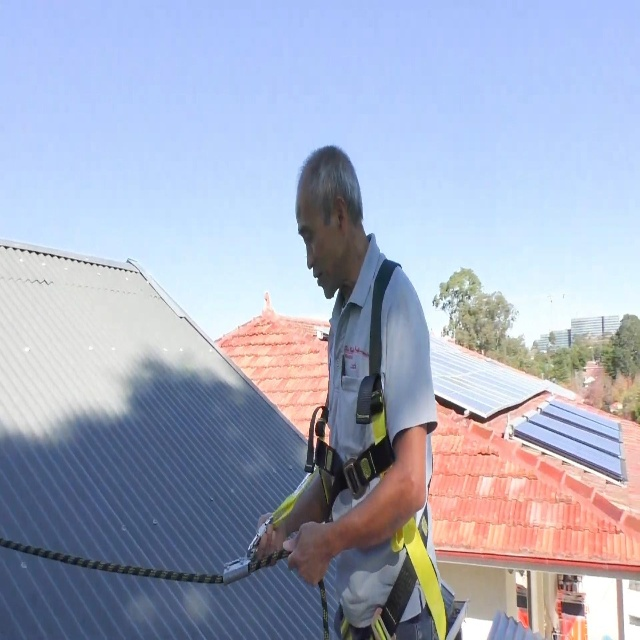Arnes_seguridad: (290, 240, 450, 640)
